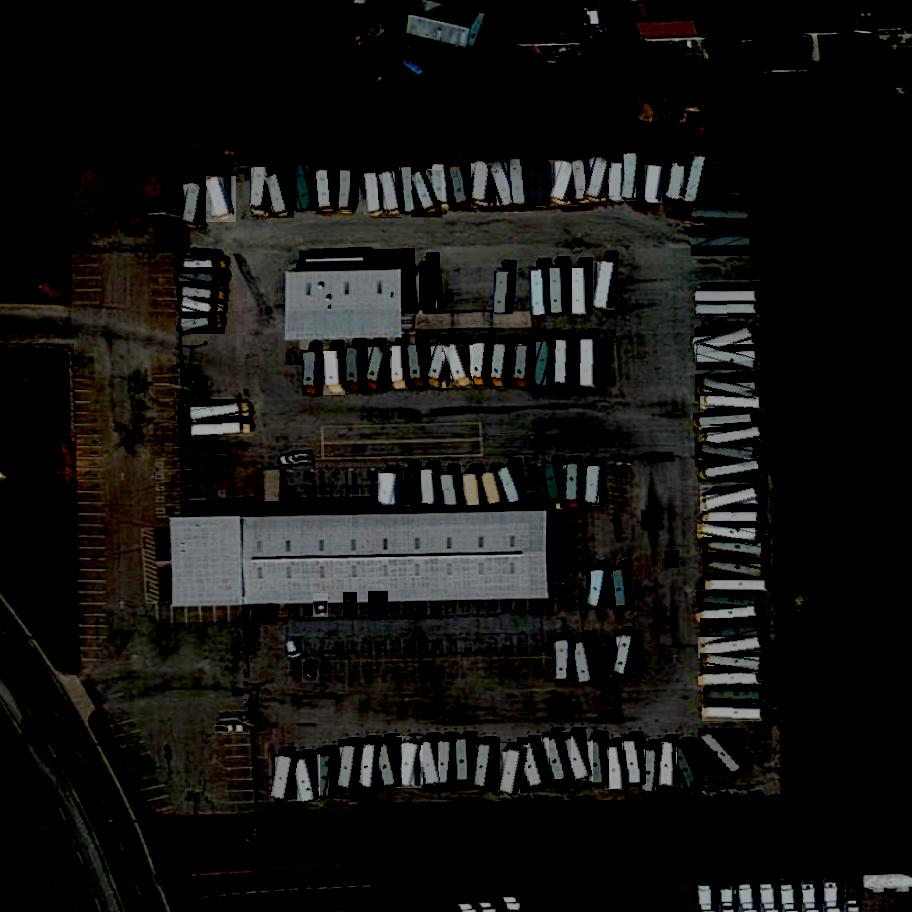large-vehicle: (697, 727, 746, 778), (691, 225, 755, 258), (668, 738, 707, 792), (694, 326, 755, 357), (518, 736, 551, 791), (560, 729, 593, 783), (695, 375, 760, 402), (700, 486, 760, 515), (695, 344, 758, 370), (701, 556, 764, 582), (269, 748, 299, 802), (613, 629, 644, 681), (701, 619, 763, 645), (486, 158, 518, 208), (411, 169, 444, 217), (500, 743, 529, 797), (291, 752, 320, 806), (542, 731, 572, 783), (376, 735, 405, 788), (698, 459, 762, 483), (697, 523, 760, 547), (396, 736, 425, 788), (443, 342, 475, 389), (473, 738, 501, 791), (189, 402, 253, 425), (585, 157, 615, 206), (548, 160, 579, 207), (425, 344, 456, 391), (684, 154, 711, 207), (571, 634, 599, 685), (362, 346, 393, 392), (207, 176, 237, 223), (265, 171, 295, 218), (699, 426, 762, 448), (695, 444, 758, 466), (699, 637, 762, 659), (339, 739, 365, 792), (529, 338, 556, 389), (702, 539, 764, 561), (622, 733, 647, 786), (358, 738, 383, 791), (695, 606, 758, 627), (699, 654, 764, 674), (180, 182, 207, 230), (695, 592, 759, 612), (417, 736, 442, 787), (292, 162, 317, 212), (450, 164, 476, 212), (588, 732, 611, 786), (471, 162, 497, 209), (177, 267, 230, 290), (593, 260, 617, 310), (436, 735, 459, 787), (586, 563, 612, 609), (379, 170, 403, 218), (694, 413, 754, 432), (571, 158, 594, 207), (641, 742, 662, 795), (468, 343, 492, 389), (317, 748, 339, 798), (317, 170, 341, 215), (498, 466, 525, 506), (609, 565, 633, 610), (555, 634, 577, 683), (181, 299, 227, 322), (180, 313, 226, 336), (407, 345, 430, 391), (699, 396, 761, 413), (605, 739, 625, 791), (433, 164, 455, 211), (490, 344, 512, 390), (324, 350, 346, 396), (302, 352, 324, 397), (251, 168, 271, 217), (514, 345, 536, 389), (191, 421, 254, 436), (542, 462, 565, 503), (564, 464, 584, 511), (364, 171, 384, 217), (623, 153, 642, 201), (480, 471, 505, 507), (659, 737, 677, 786), (704, 688, 762, 703), (494, 270, 513, 315), (420, 263, 438, 310), (702, 707, 762, 721), (389, 346, 408, 389), (400, 166, 417, 214), (345, 347, 363, 392), (510, 157, 527, 204), (458, 735, 475, 782), (692, 209, 752, 222), (699, 673, 759, 686), (670, 162, 689, 202), (584, 466, 603, 506), (182, 287, 229, 303), (530, 159, 546, 205), (697, 305, 758, 317), (400, 470, 420, 506), (581, 339, 596, 387), (378, 473, 399, 507), (532, 268, 547, 315), (695, 290, 759, 301), (554, 340, 570, 384), (702, 511, 759, 523), (705, 580, 767, 591), (646, 164, 663, 204), (440, 473, 459, 507), (572, 268, 586, 314), (551, 266, 564, 314), (463, 473, 480, 506), (183, 259, 229, 271), (340, 170, 353, 212), (610, 164, 624, 201), (422, 470, 436, 505)
small-vehicle: (368, 590, 389, 621), (302, 658, 321, 685), (285, 639, 305, 662), (280, 455, 315, 468), (313, 593, 328, 618), (343, 592, 357, 618), (264, 606, 278, 627), (822, 7, 831, 28)
